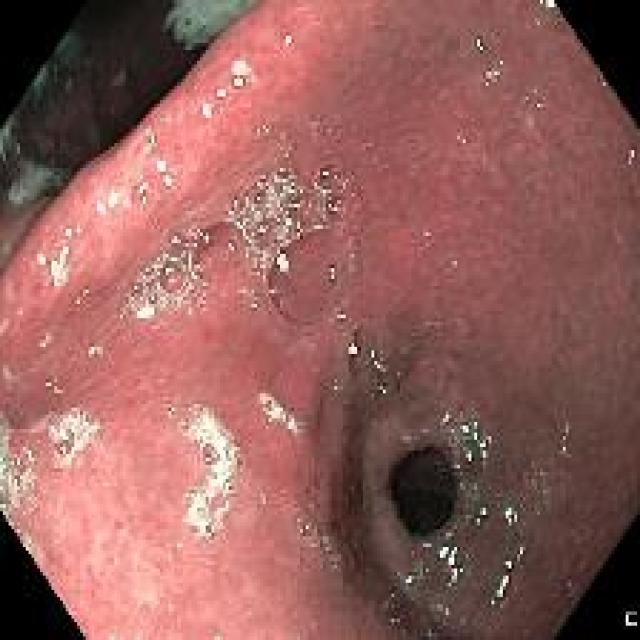bubbles: (130, 164, 351, 325), (176, 402, 230, 534), (164, 1, 259, 50), (32, 407, 103, 471), (290, 498, 347, 571), (1, 439, 44, 519), (344, 315, 387, 387), (9, 159, 70, 208), (256, 389, 298, 434), (454, 437, 482, 480), (0, 107, 21, 158), (33, 331, 59, 356), (115, 294, 133, 321), (389, 613, 410, 636), (256, 118, 271, 142), (382, 599, 394, 611), (427, 629, 440, 638), (387, 590, 399, 599)
contrast: (21, 5, 203, 170), (391, 441, 459, 531)
specularity: (225, 167, 317, 273), (132, 124, 175, 207), (37, 223, 80, 281), (194, 71, 243, 115), (437, 538, 470, 595), (494, 546, 523, 606), (458, 416, 491, 464), (481, 57, 510, 87), (500, 503, 523, 530), (96, 191, 125, 211), (134, 301, 159, 321), (276, 30, 300, 50), (398, 567, 418, 590), (473, 502, 491, 527), (370, 347, 385, 371), (274, 254, 291, 273), (537, 1, 559, 14), (474, 33, 487, 50), (203, 450, 217, 465), (225, 241, 238, 256), (326, 263, 338, 279), (162, 263, 175, 276), (326, 201, 339, 214), (168, 233, 180, 247), (335, 309, 346, 323), (464, 447, 473, 463), (346, 343, 359, 354), (232, 449, 241, 464), (35, 337, 46, 349), (59, 429, 70, 441), (166, 603, 175, 617), (200, 230, 210, 242), (256, 223, 266, 235), (295, 220, 302, 236), (9, 455, 20, 465), (147, 290, 157, 301), (12, 474, 21, 486), (131, 282, 140, 294), (154, 255, 164, 265), (319, 169, 329, 179), (175, 536, 182, 550), (189, 240, 199, 249), (442, 413, 451, 423), (86, 346, 96, 355), (143, 263, 151, 274), (259, 169, 267, 180), (250, 256, 258, 267), (377, 386, 388, 394), (490, 595, 498, 606), (208, 524, 217, 533), (277, 166, 286, 175), (204, 529, 212, 539), (200, 490, 208, 498), (298, 525, 307, 532), (168, 406, 175, 415), (60, 445, 68, 452), (269, 400, 276, 408), (291, 201, 299, 208), (302, 522, 309, 530), (53, 384, 59, 391), (189, 491, 195, 498), (1, 499, 5, 509), (46, 380, 50, 386)
